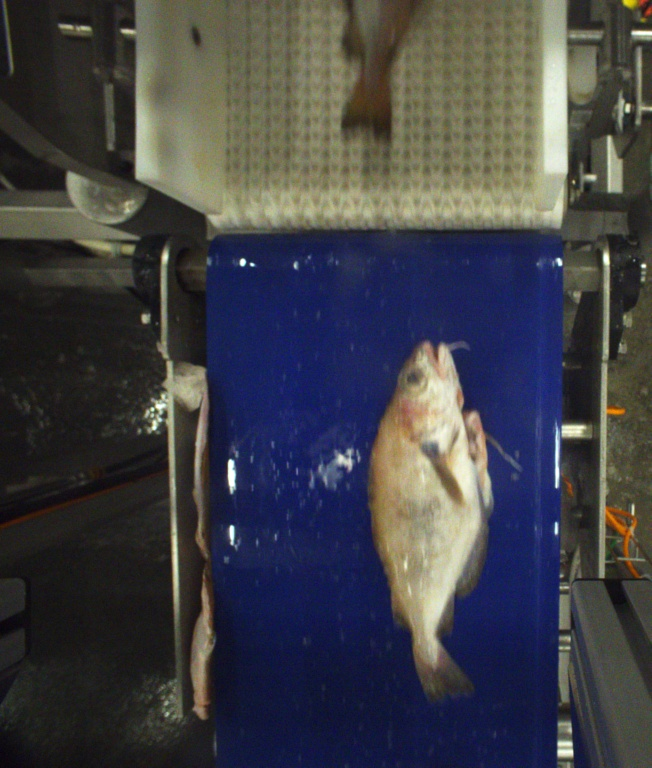BIB: (370, 344, 529, 684)
